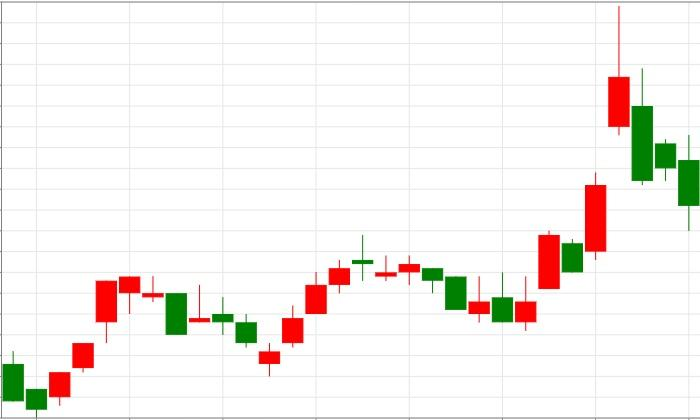three_white_soldiers_rise: (118, 272, 327, 377)
